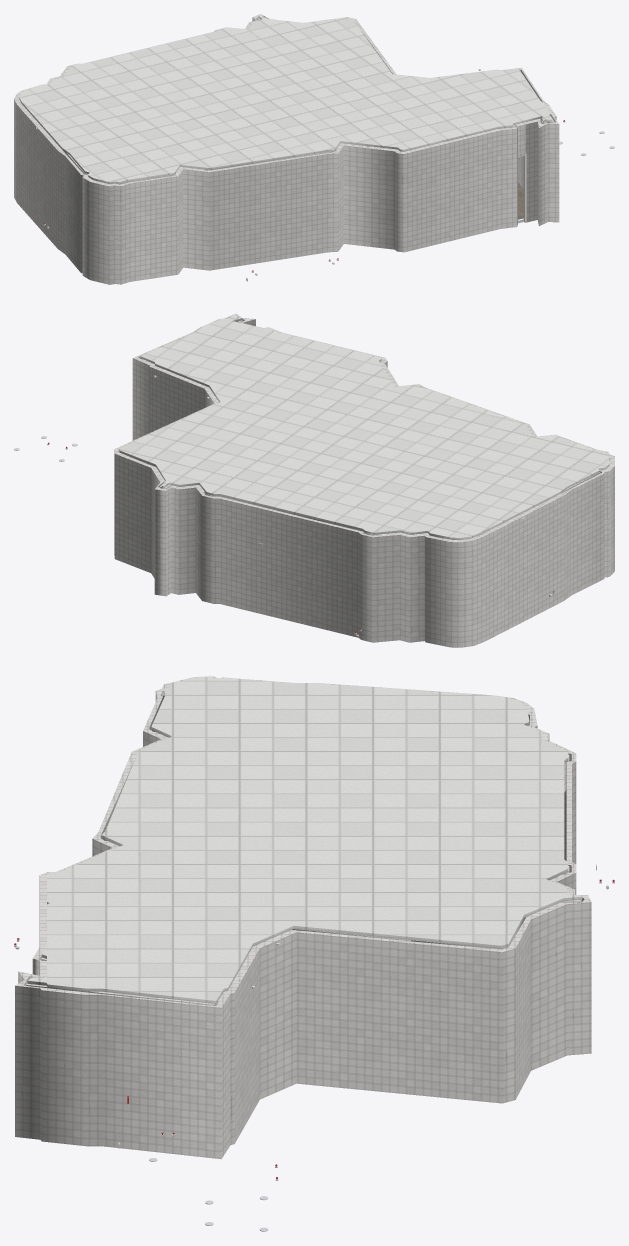
Rendered from cocina_alta_890daf41b1bd.glb.
3 views of the same model, one above another, from view 1: azimuth 30°, elevation 25°; view 2: azimuth 150°, elevation 25°; view 3: azimuth 270°, elevation 25° (orthographic). The views are drawn at different scales.
Parts seen in each view (by area): view 1: Z_cocina; view 2: Z_cocina; view 3: Z_cocina.
Boxes of the visible parts, box(x1,y1,x2,y2) form: Z_cocina: box(14, 14, 559, 284); Z_cocina: box(114, 313, 614, 647); Z_cocina: box(15, 676, 591, 1159).
Bounding box in the file's own units: 17.2 × 3.08 × 10.81.
33 materials, 4 textured.
